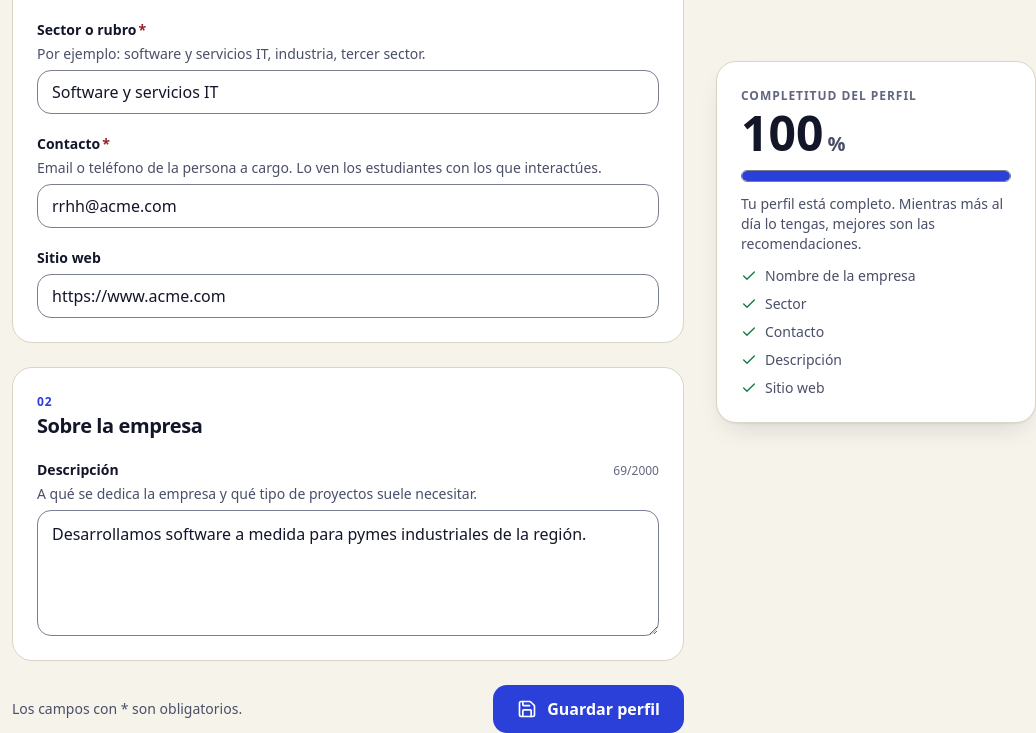
it: PerfilPage › la empresa ve su formulario y, al guardar, envía PUT /perfil, refresca la sesión y avisa
(page scrolled)
Click the button "Guardar perfil" at (589, 709), box 493,685 -> 684,732
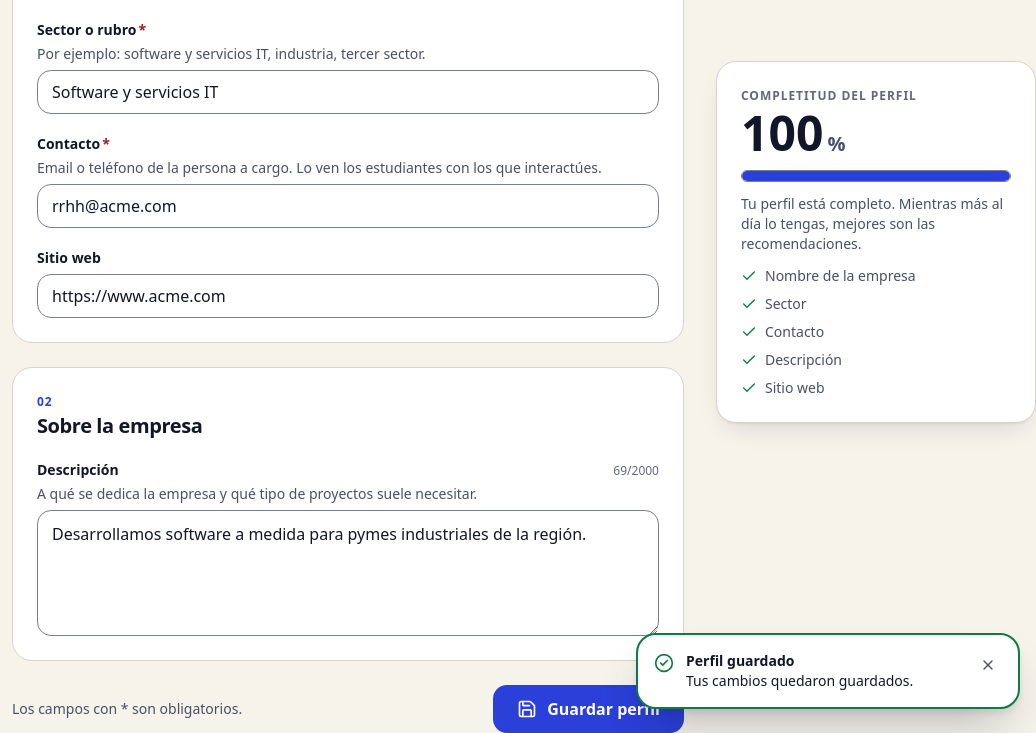
Now the text "Tus cambios quedaron guardados." is shown, box 686,671 -> 913,690
